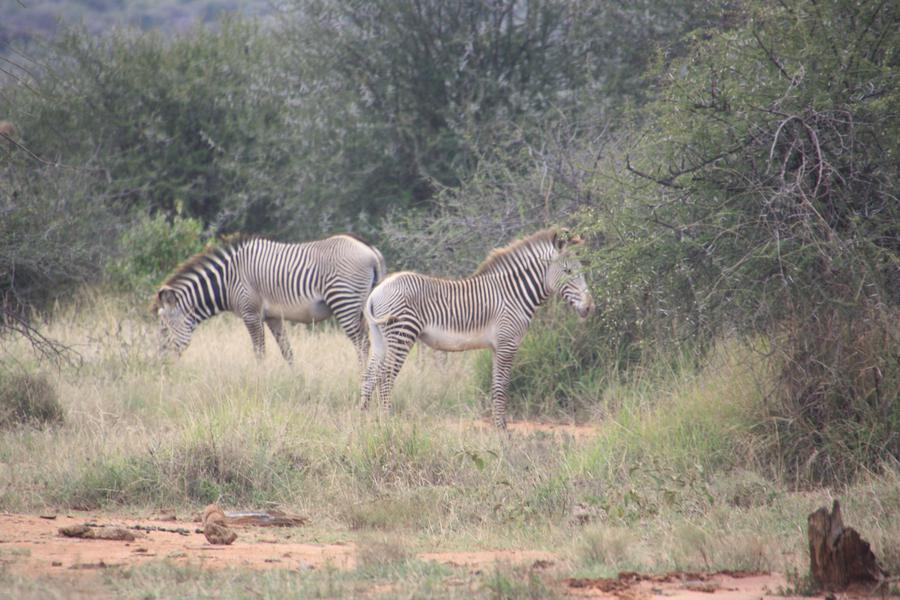zebra_grevys: (374, 257, 524, 343)
